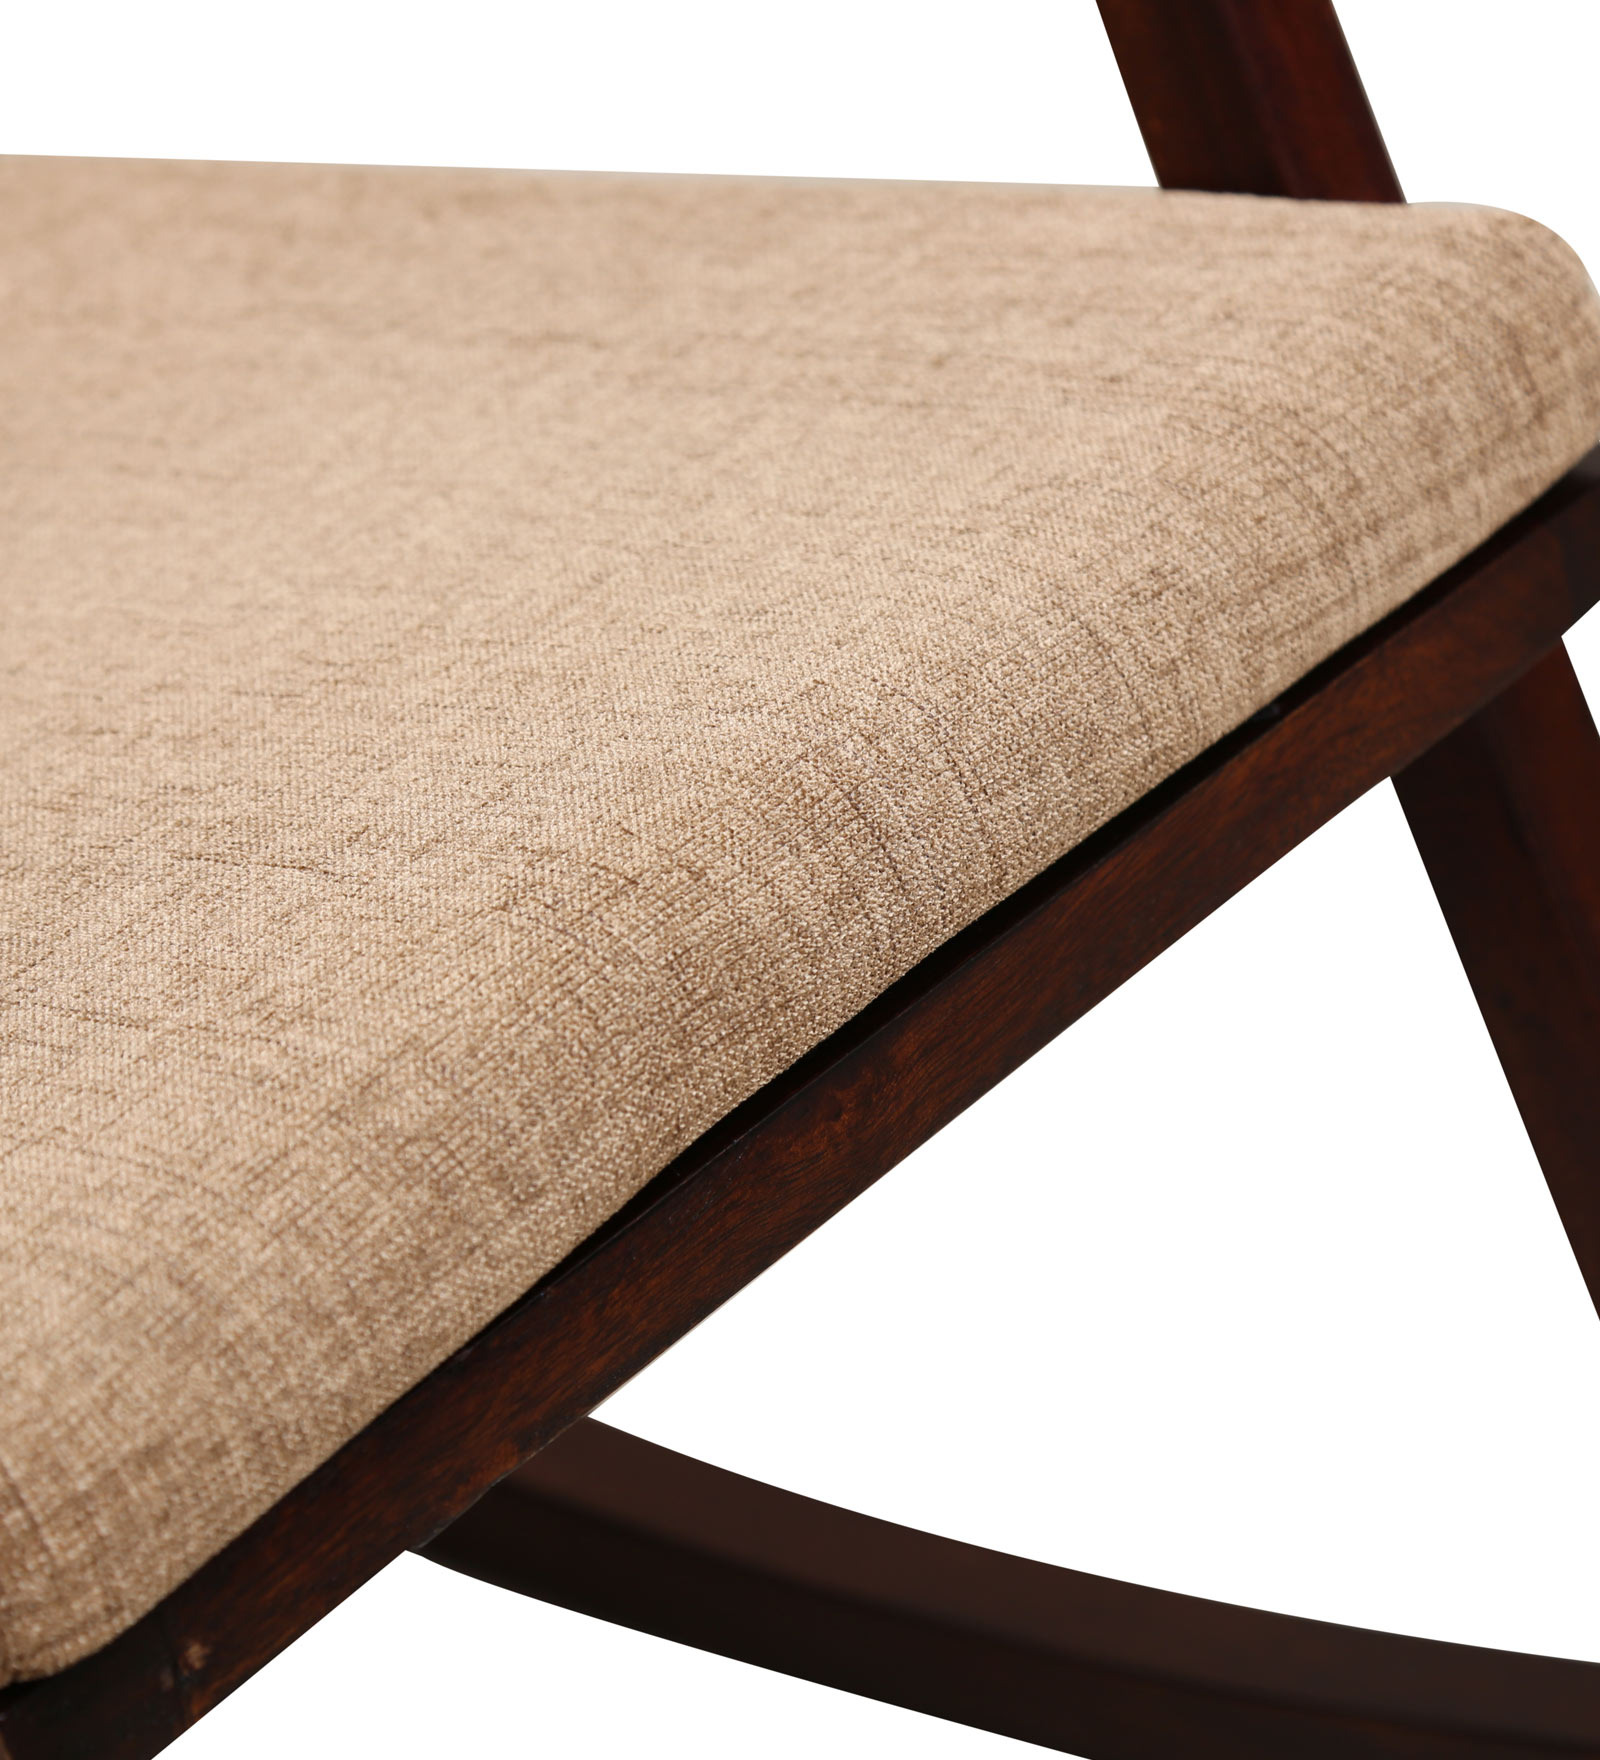Ace Rocking Chair in Brown Colour by HomeTown: (57, 97, 1600, 1737)
